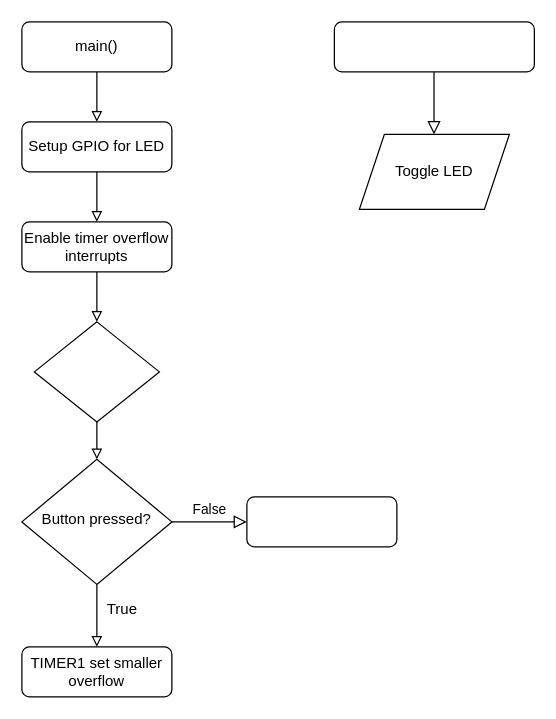
The diagram is 556 pixels wide and 719 high, and some of its shapes have lost their labels. The box of each missing label's shape, as (x1, y1, x2, y2) in pixels:
ISR(TIMER1_OVF_vect): (333, 21, 534, 72)
TIMER1 set larger overflow: (246, 496, 397, 547)
while(1): (33, 321, 159, 422)
